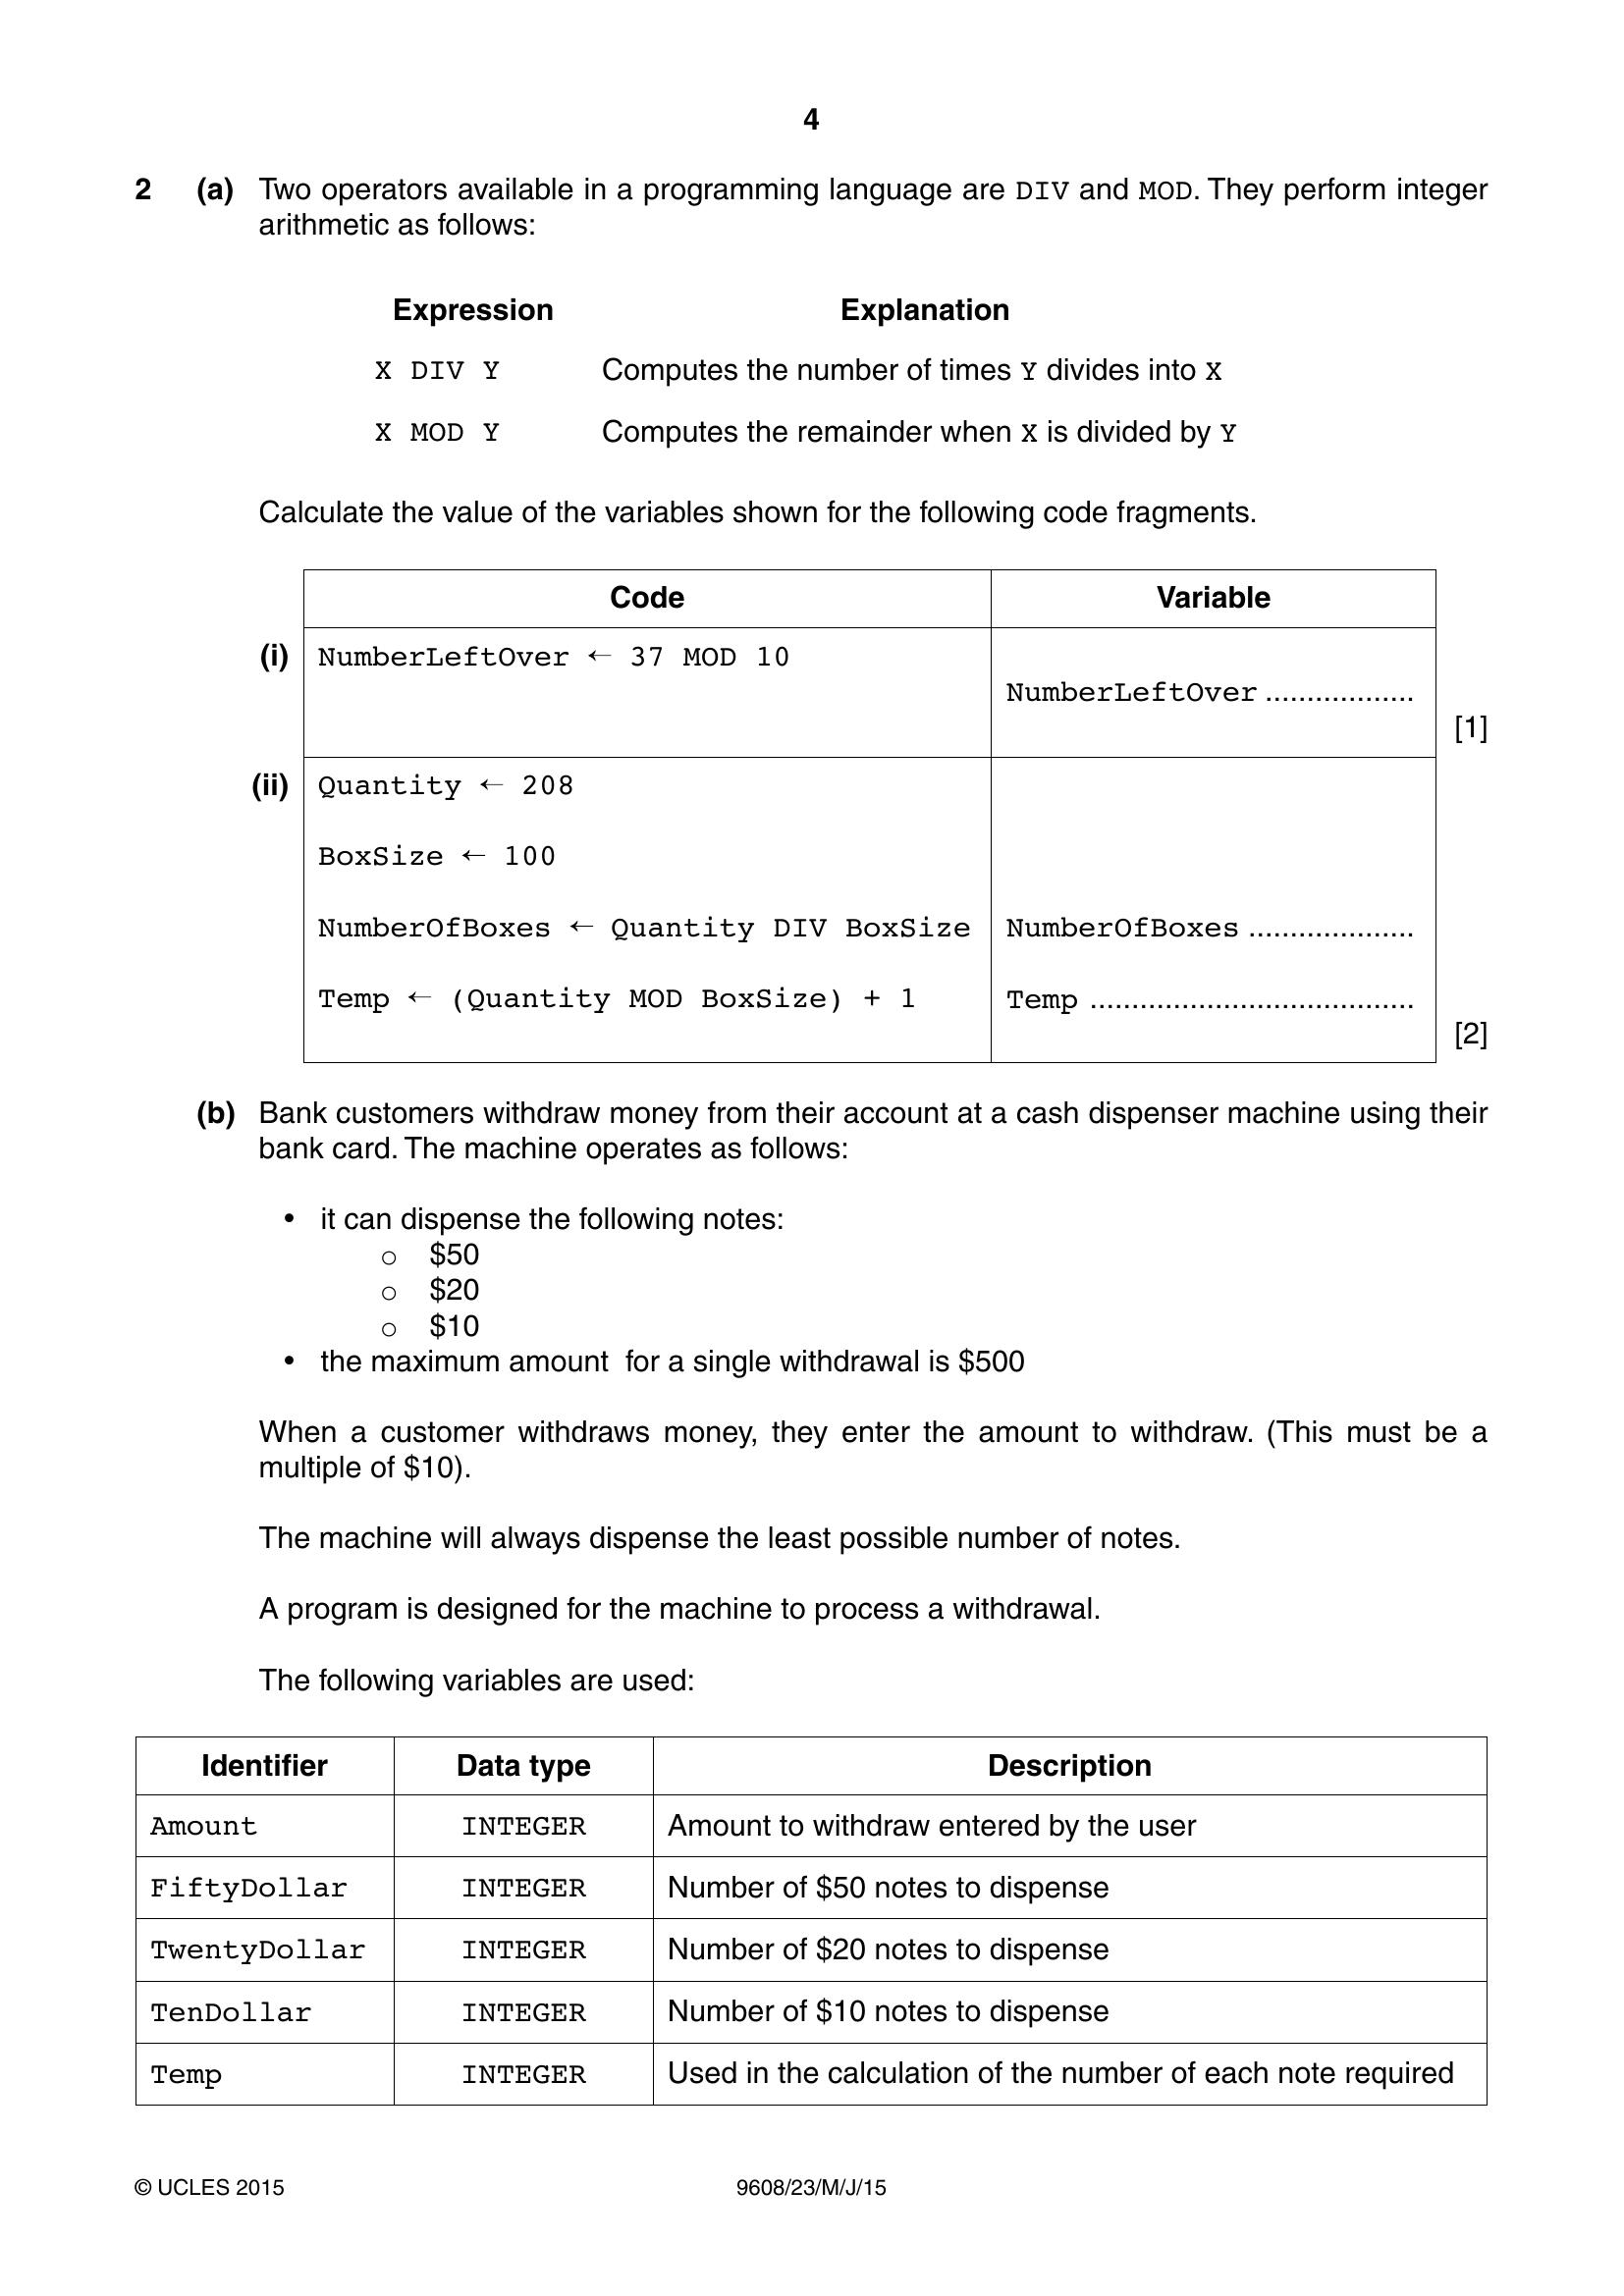question: (4, 155, 1624, 2147)
